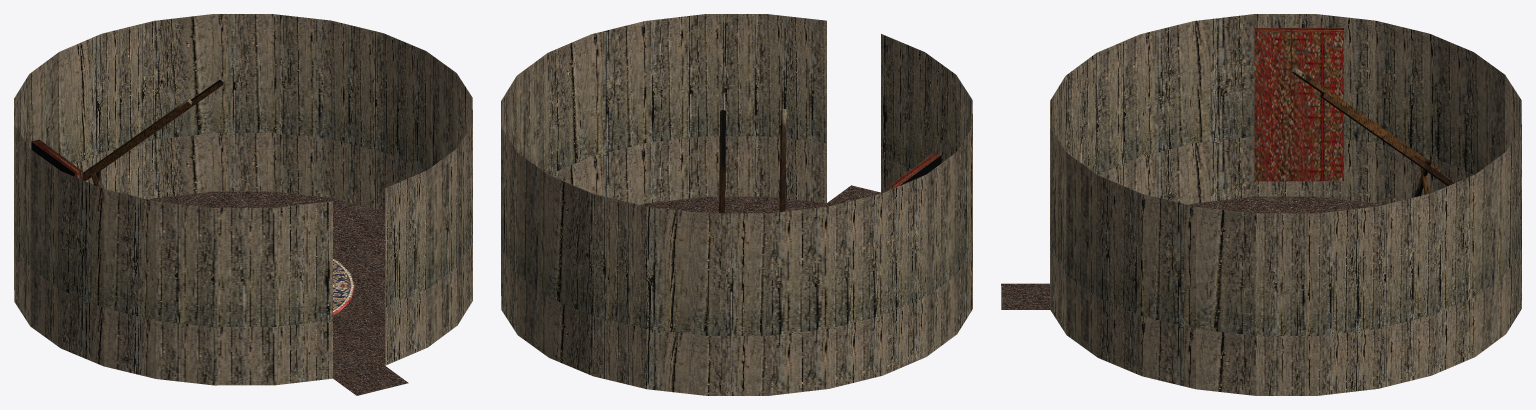
Rendered from hut_interior.fbx.
3 views of the same model, side by side, from view 1: azimuth 30°, elevation 25°; view 2: azimuth 150°, elevation 25°; view 3: azimuth 270°, elevation 25° (orthographic). The views are drawn at different scales.
Parts seen in each view (by area): view 1: Cylinder, Cube.006, Cylinder.001, Cube.001; view 2: Cylinder, Cube.006, Cube.001; view 3: Cylinder, Cube.001, Cube.006.
Part boxes in pixels (x1,y1,x2,y2): Cylinder: (14, 14, 472, 395); Cube.006: (83, 80, 223, 187); Cylinder.001: (333, 259, 354, 315); Cube.001: (31, 139, 82, 179); Cylinder: (501, 14, 972, 395); Cube.006: (719, 109, 786, 213); Cube.001: (888, 153, 941, 190); Cylinder: (1001, 14, 1521, 395); Cube.001: (1254, 28, 1343, 181); Cube.006: (1291, 67, 1454, 197).
Size of the model in its own units: 678 by 334 by 748.
6 materials, 6 textured.
